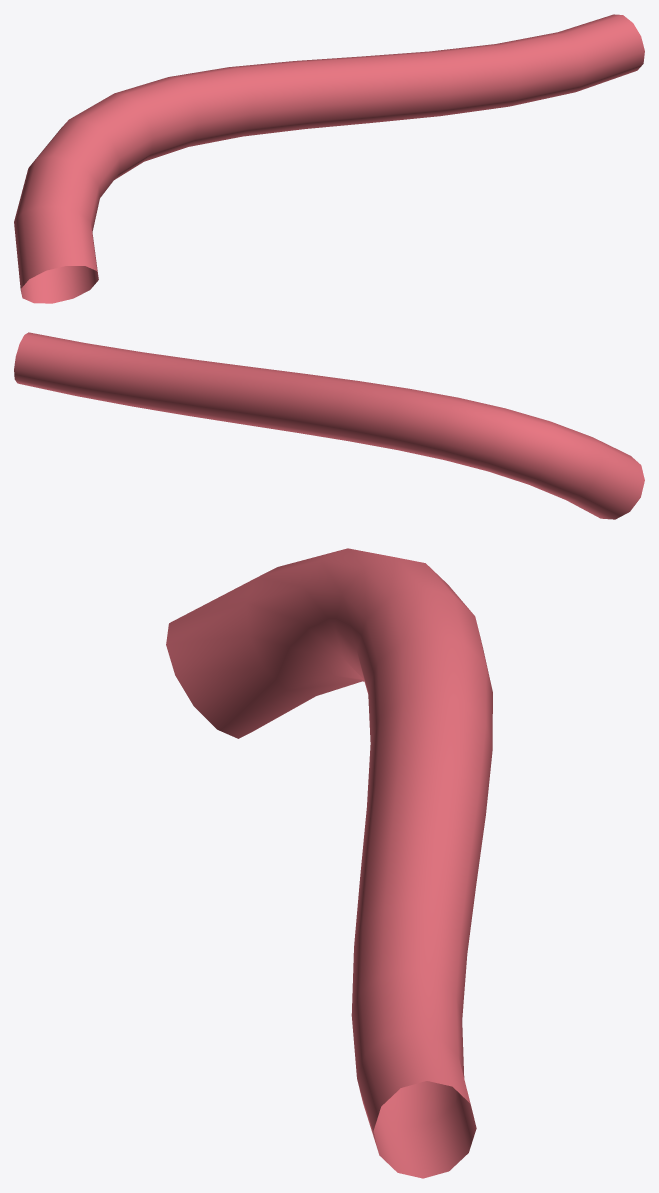
The picture shows the model from 3 angles, top to bottom: view 1: azimuth 30°, elevation 25°; view 2: azimuth 150°, elevation 25°; view 3: azimuth 270°, elevation 25°; orthographic projection. The views are drawn at different scales.
Parts seen in each view (by area): view 1: ZA_d0c7224f19bf429b; view 2: ZA_d0c7224f19bf429b; view 3: ZA_d0c7224f19bf429b.
Boxes of the visible parts, x1=… form: ZA_d0c7224f19bf429b: x1=14, y1=14, x2=644, y2=303; ZA_d0c7224f19bf429b: x1=14, y1=332, x2=644, y2=519; ZA_d0c7224f19bf429b: x1=166, y1=548, x2=492, y2=1178.
Size of the model in its own units: 0.0227 by 0.00467 by 0.00561.
